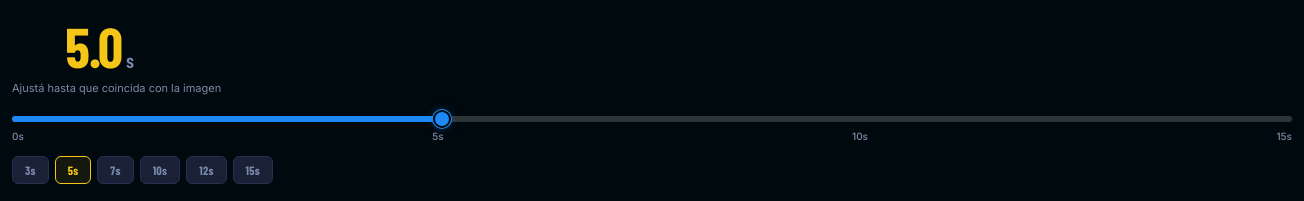
Test: DelayPanel › ignores a non-numeric typed value and reverts the input on blur
Replace the text in the field named "Delay en segundos" with "abc" at (67, 46), box x1=12 y1=12 x2=122 y2=79
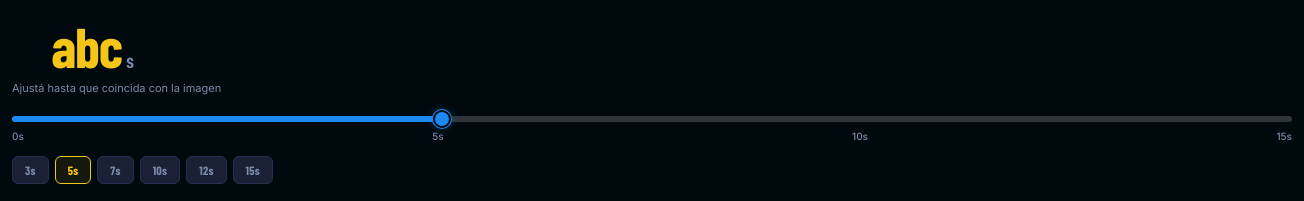
Leave the field named "Delay en segundos", box x1=12 y1=12 x2=122 y2=79
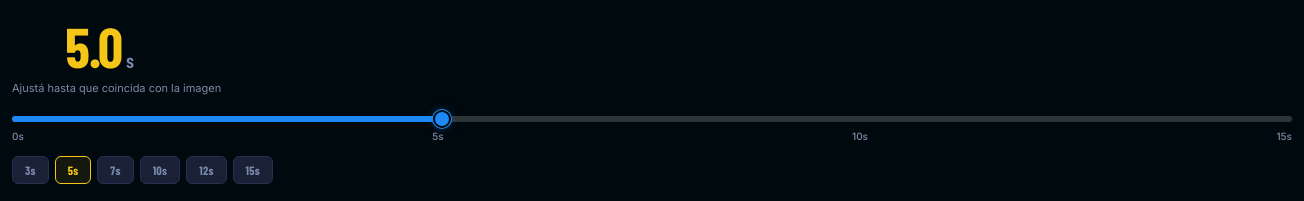
expect the field named "Delay en segundos" holds "5.0": met, box x1=12 y1=12 x2=122 y2=79
